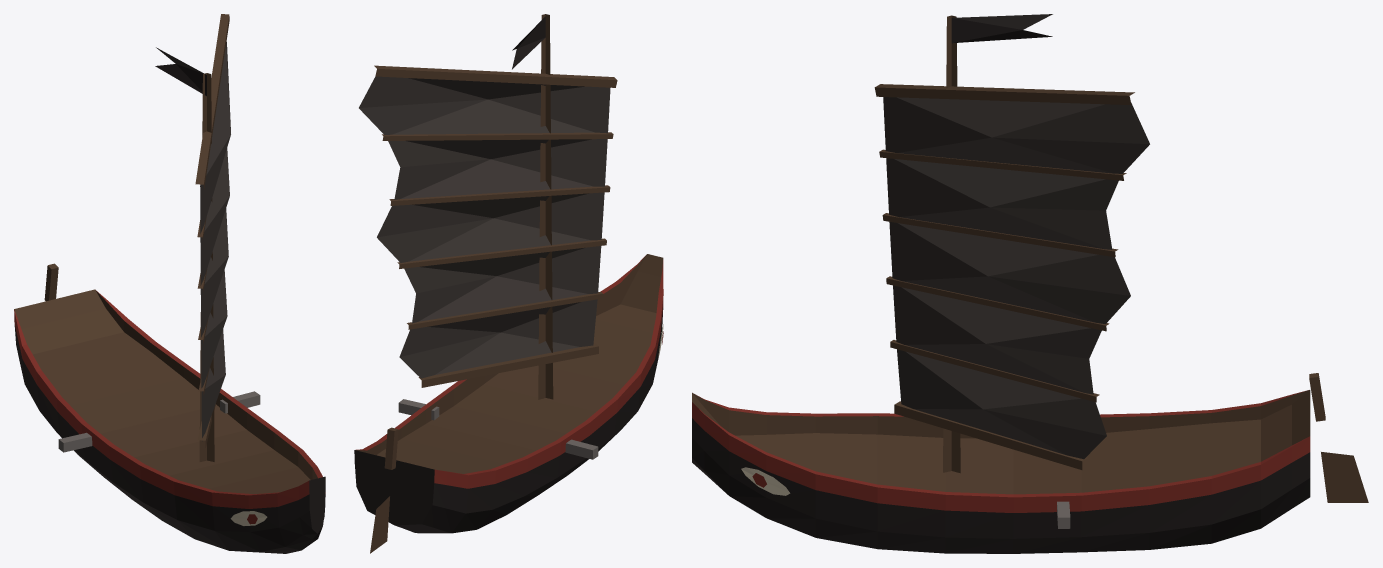
The model's file is pirate_cutter.glb.
The picture shows the model from 3 angles, left to right: view 1: azimuth 30°, elevation 25°; view 2: azimuth 150°, elevation 25°; view 3: azimuth 270°, elevation 25°; orthographic projection. The views are drawn at different scales.
Visible parts, largest first — view 1: pirate_cutter; view 2: pirate_cutter; view 3: pirate_cutter.
Part boxes in pixels (left/top/right/bottom): pirate_cutter: left=14, top=14, right=325, bottom=553; pirate_cutter: left=354, top=14, right=663, bottom=553; pirate_cutter: left=692, top=14, right=1368, bottom=553.
Bounding box in the file's own units: 4 × 8.32 × 9.85.
